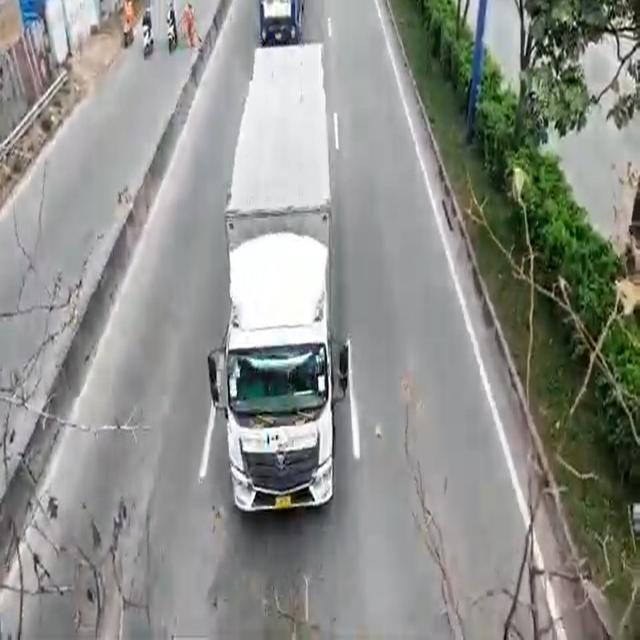motor: (139, 28, 152, 58), (167, 24, 177, 56)
truck: (236, 46, 330, 522)
